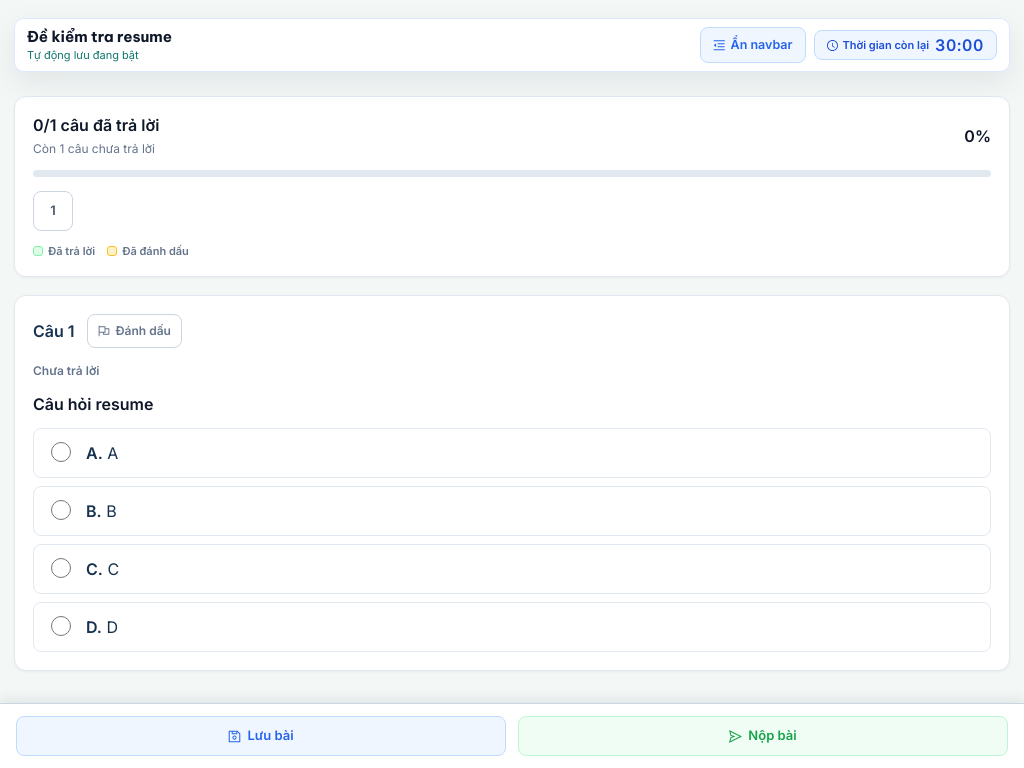
Scenario: ExamTakeScreen timer regression › resynchronizes the monotonic deadline from a save response
Click the button "Lưu bài": x=261, y=736 left=16, top=716, right=506, bottom=756
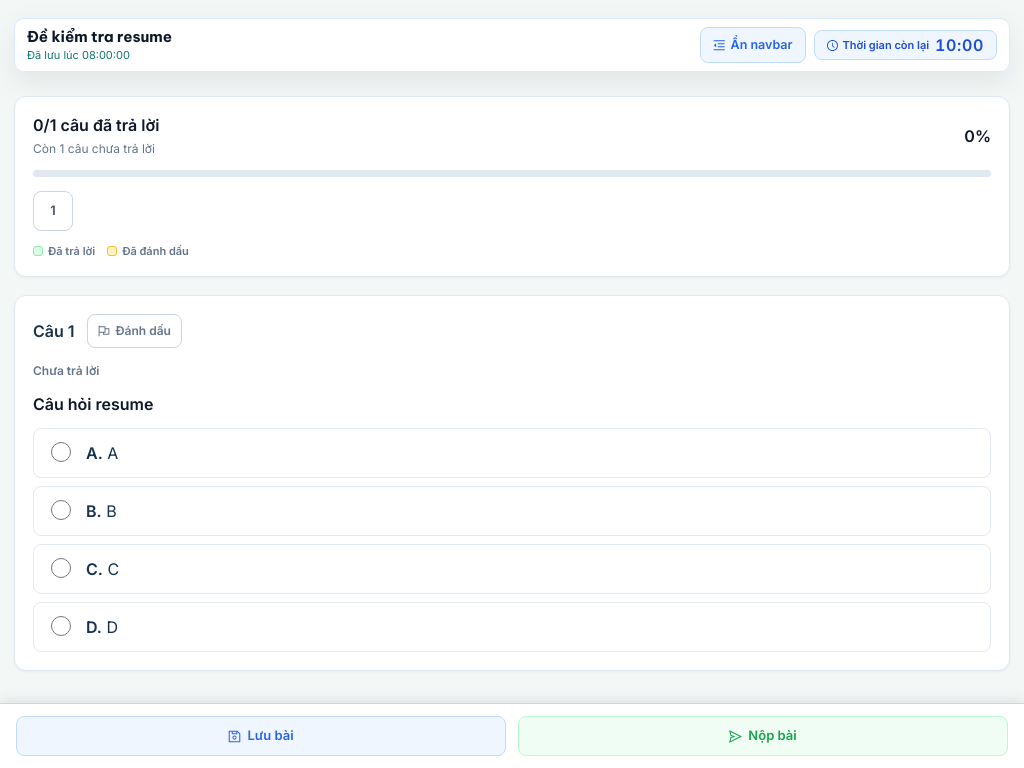
Expected: the text "10:00" is shown, left=935, top=37, right=984, bottom=53
